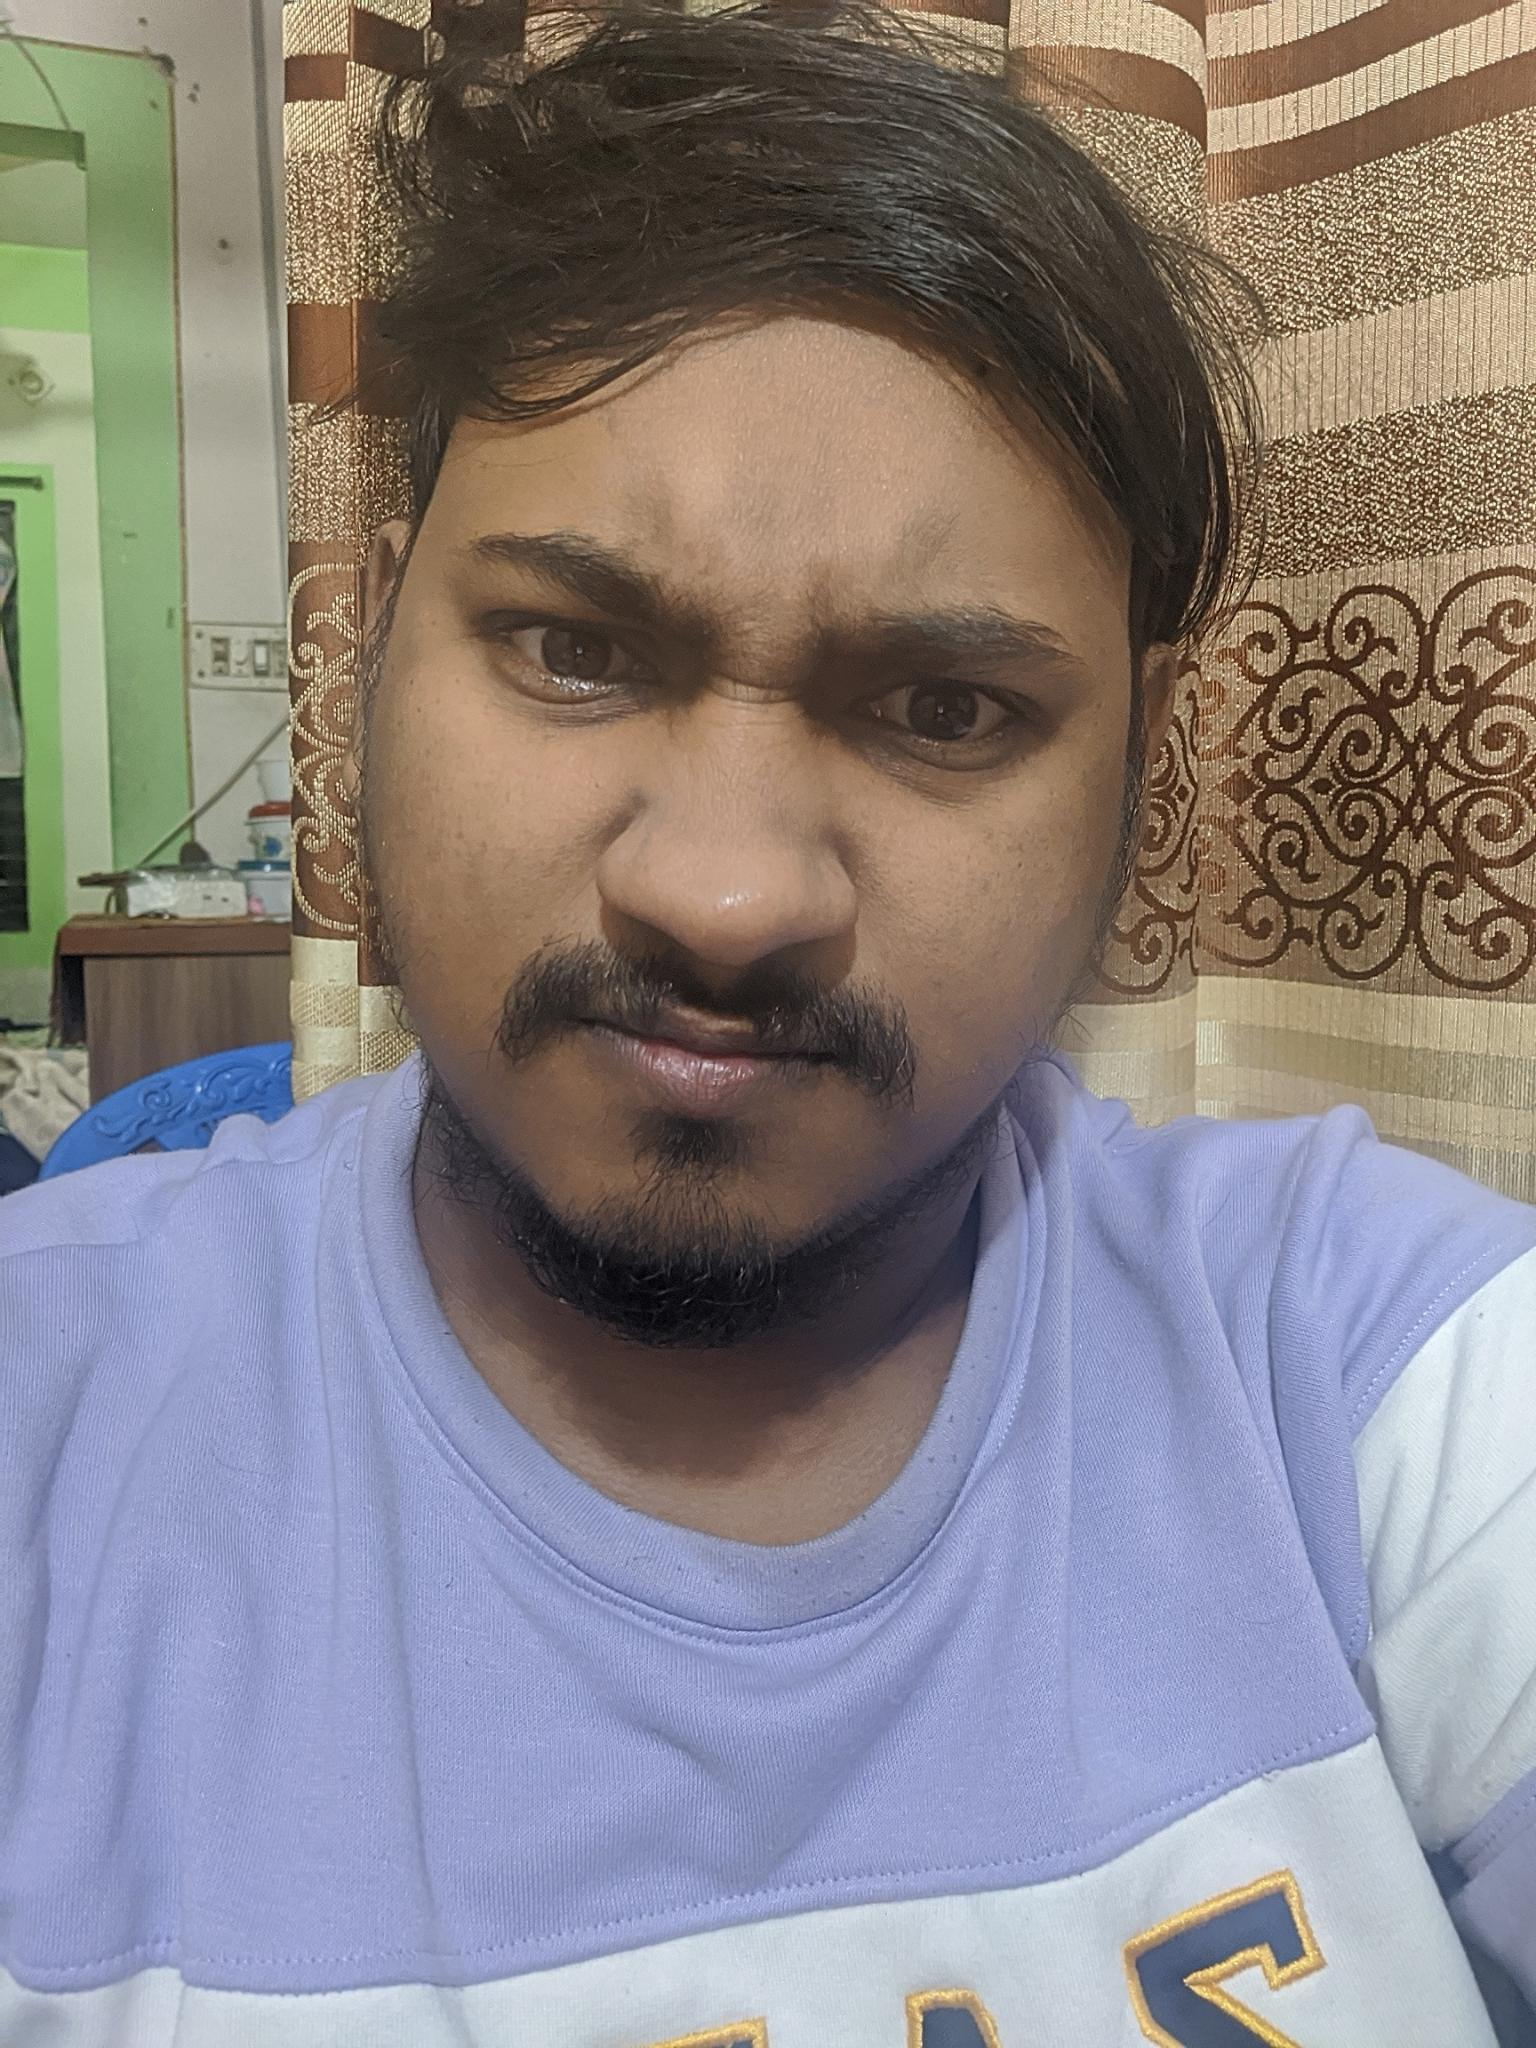Angry: (405, 423, 1123, 1234)
